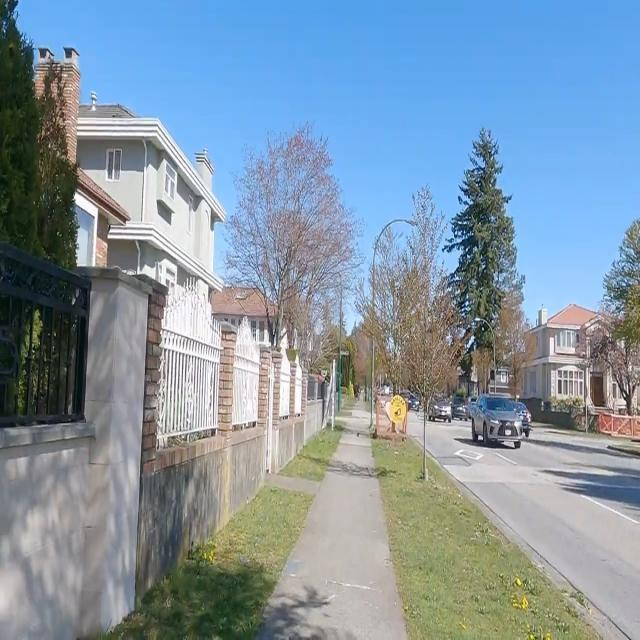Automobile: (468, 394, 523, 448), (519, 401, 531, 438), (432, 402, 450, 421), (452, 398, 466, 418), (409, 394, 419, 411)
Obstacle: (0, 281, 146, 639), (373, 441, 596, 639), (102, 485, 313, 639), (138, 426, 265, 599), (273, 401, 319, 471), (283, 428, 343, 480)
Road: (429, 423, 639, 639), (427, 420, 474, 469), (408, 411, 422, 449)
Sidewalk: (259, 430, 406, 639), (267, 474, 320, 496)
